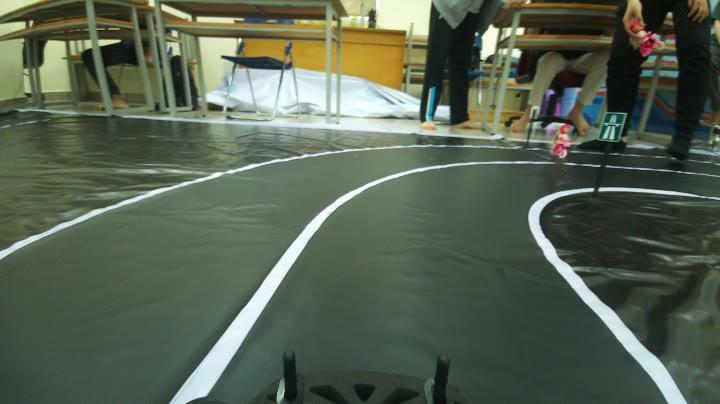highway_entry: (597, 109, 631, 145)
pedestrian: (545, 119, 580, 164)
